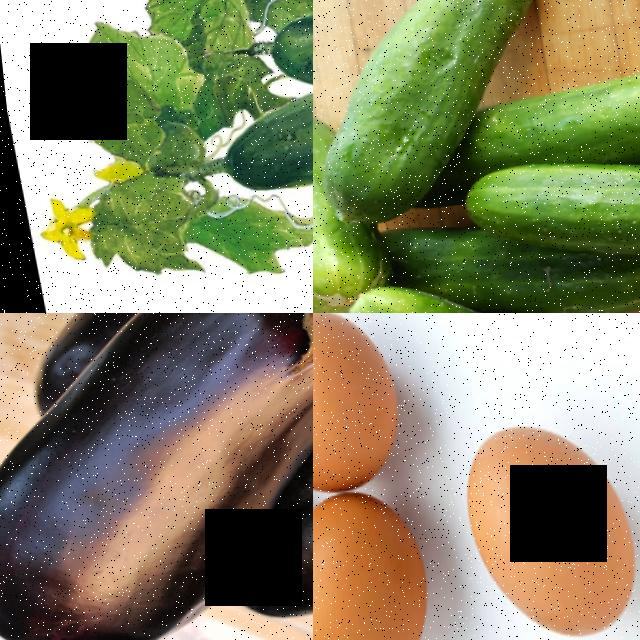cucumber: (313, 1, 470, 228), (444, 124, 640, 294), (331, 0, 552, 111), (458, 54, 640, 176), (207, 55, 313, 198), (334, 265, 589, 313), (313, 100, 345, 313)
egg_: (436, 411, 640, 640), (313, 313, 411, 509), (313, 487, 437, 640)
eggplant: (0, 313, 313, 640)
